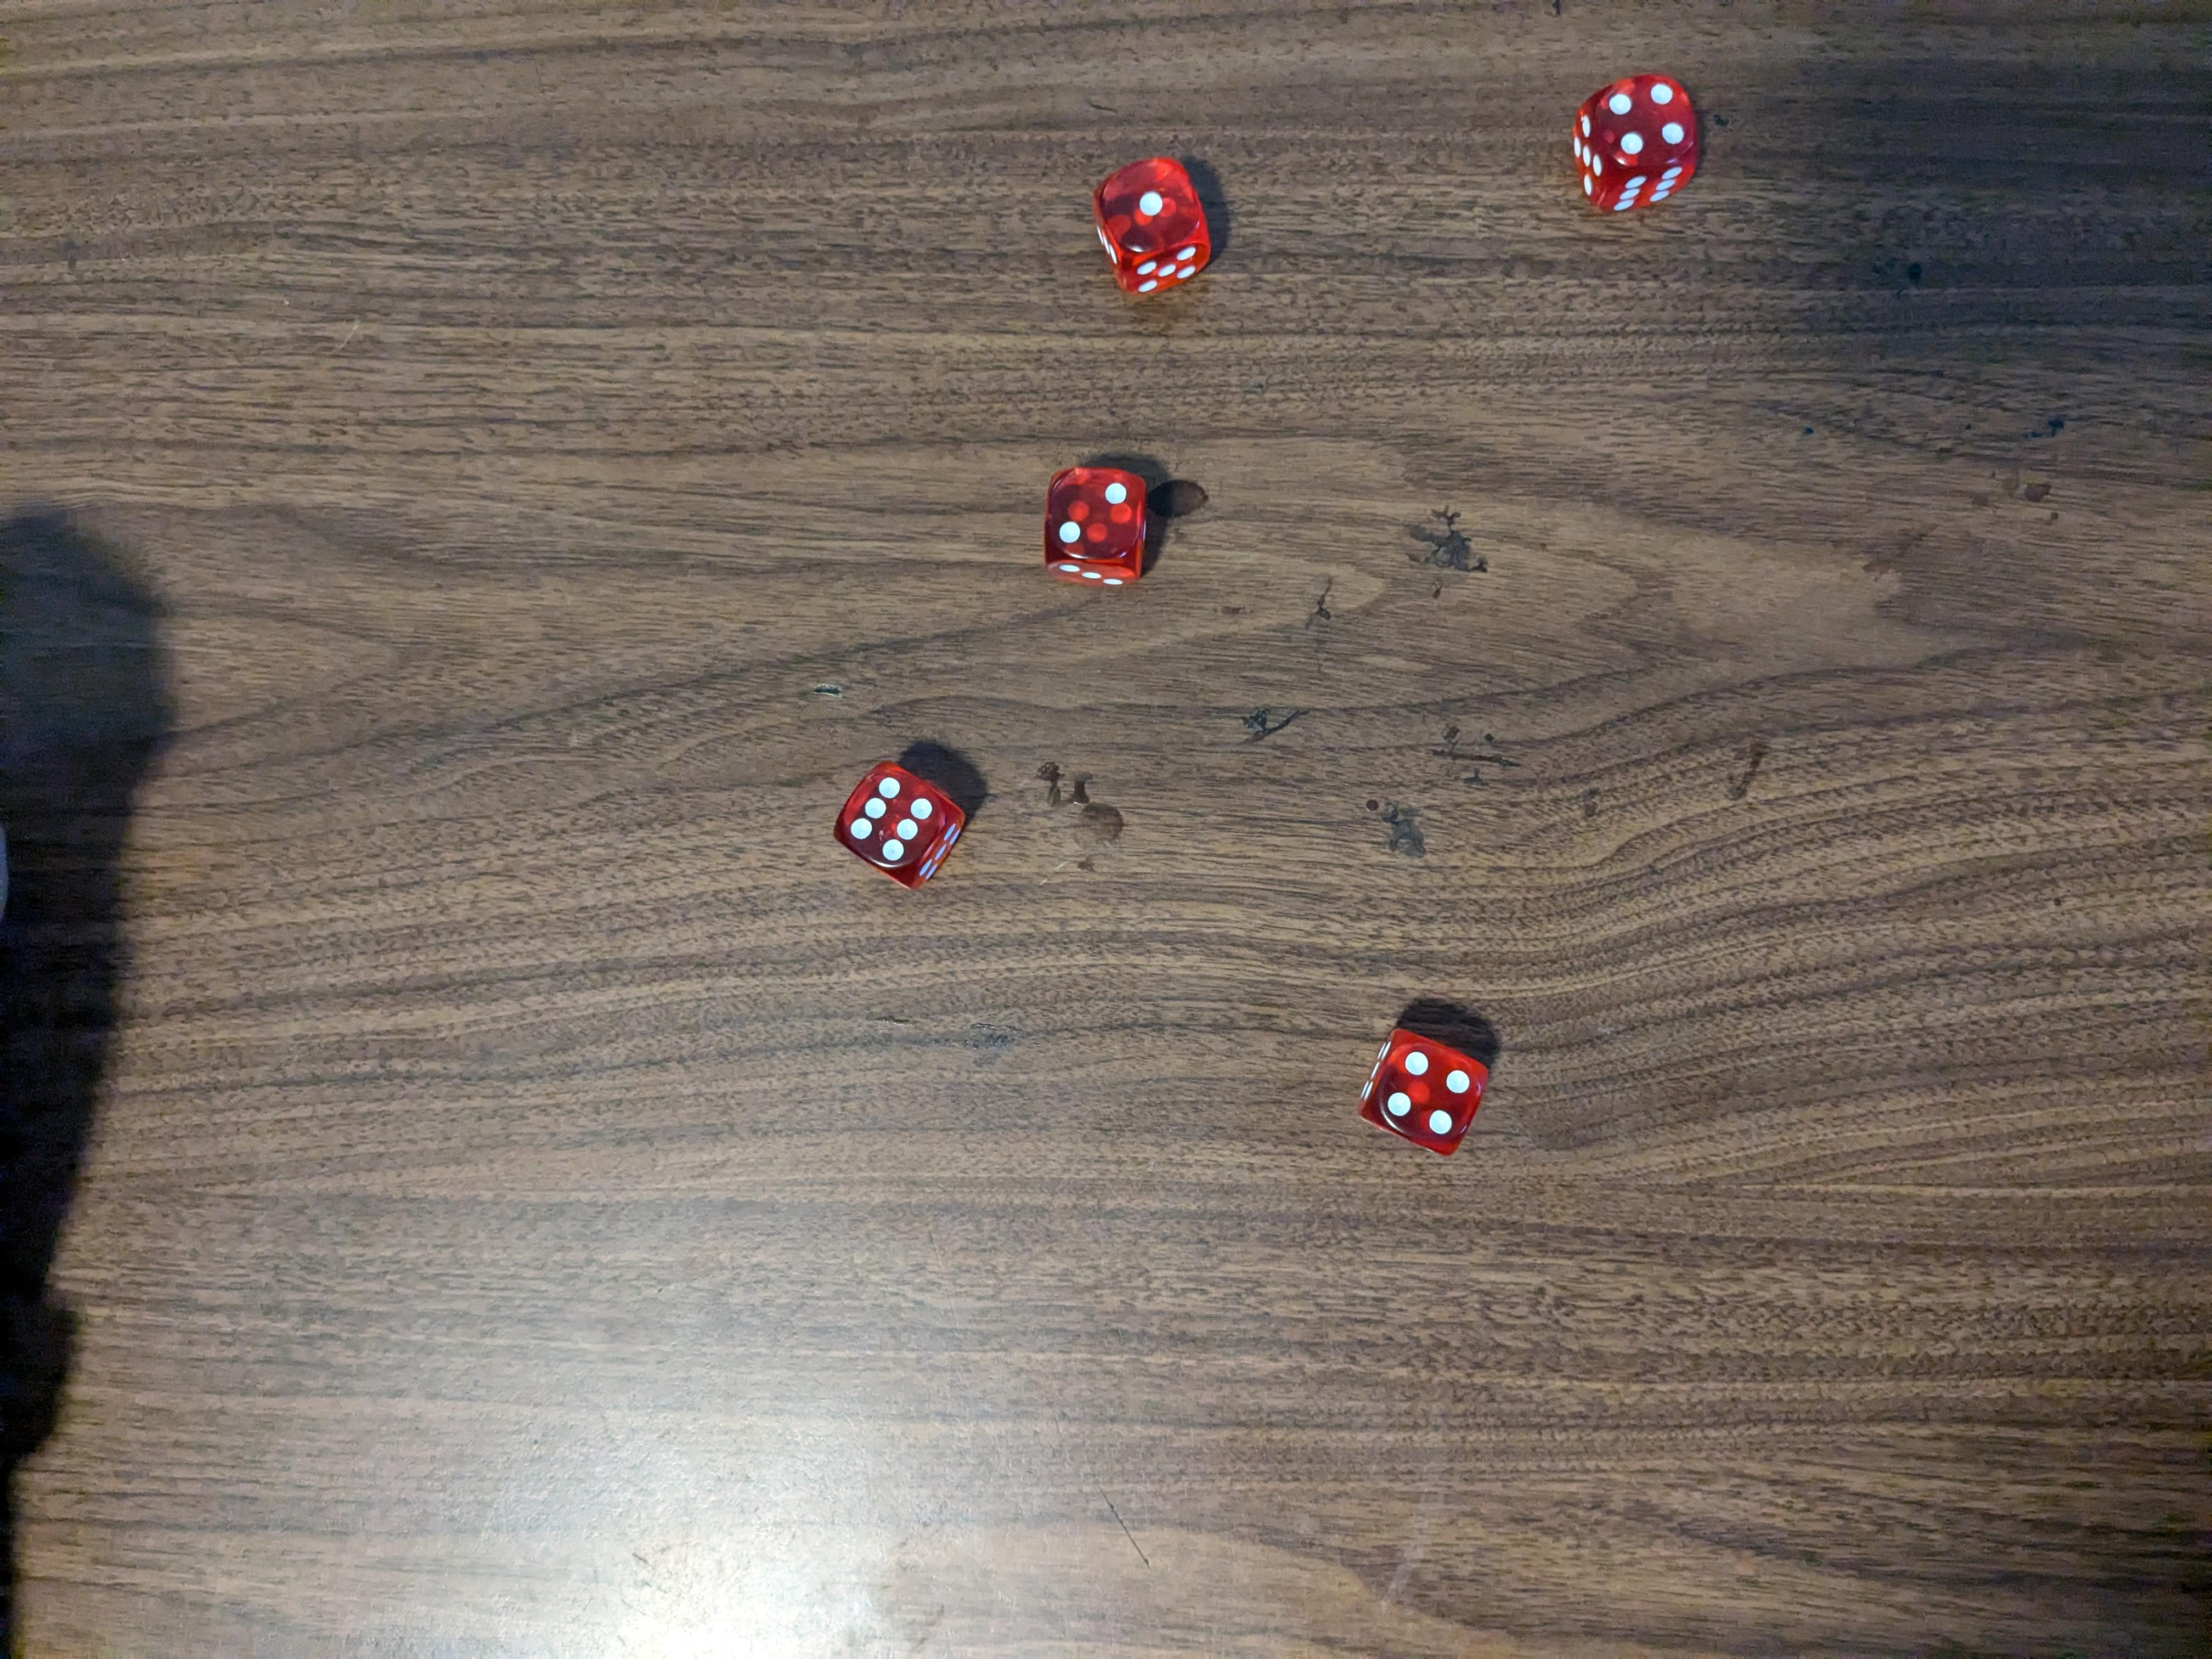four: (1569, 68, 1707, 213), (1357, 1021, 1493, 1155)
one: (1085, 155, 1219, 305)
six: (834, 758, 974, 884)
two: (1038, 464, 1153, 592)
